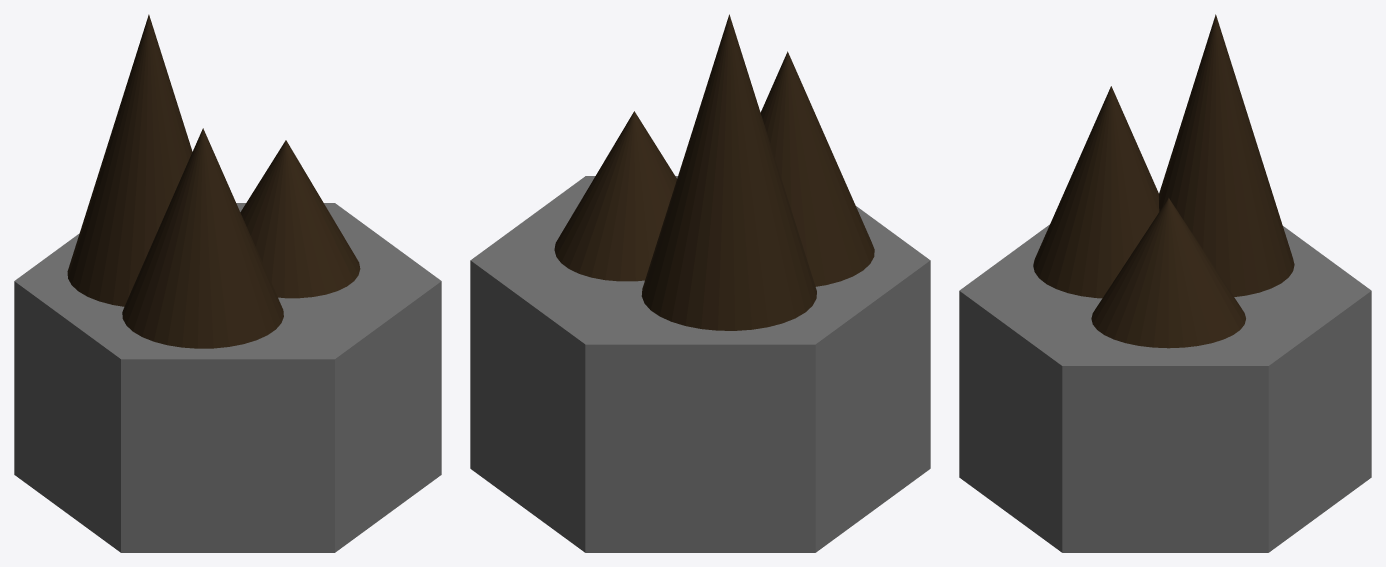
File: MountainV1.fbx
The picture shows the model from 3 angles, left to right: view 1: azimuth 30°, elevation 25°; view 2: azimuth 150°, elevation 25°; view 3: azimuth 270°, elevation 25°; orthographic projection. The views are drawn at different scales.
Visible parts, largest first — view 1: Circle, Cone.001, Cone, Cone.002; view 2: Circle, Cone, Cone.001, Cone.002; view 3: Circle, Cone, Cone.001, Cone.002.
Part boxes in pixels (left/top/right/bottom): Circle: left=14, top=203, right=441, bottom=552; Cone.001: left=122, top=128, right=283, bottom=348; Cone: left=67, top=14, right=192, bottom=306; Cone.002: left=240, top=140, right=360, bottom=298; Circle: left=470, top=176, right=930, bottom=552; Cone: left=641, top=14, right=816, bottom=330; Cone.001: left=760, top=51, right=874, bottom=286; Cone.002: left=554, top=111, right=676, bottom=281; Circle: left=959, top=224, right=1371, bottom=552; Cone: left=1159, top=14, right=1294, bottom=296; Cone.001: left=1033, top=86, right=1159, bottom=298; Cone.002: left=1091, top=198, right=1245, bottom=348.
Size of the model in its own units: 173 by 235 by 200.
